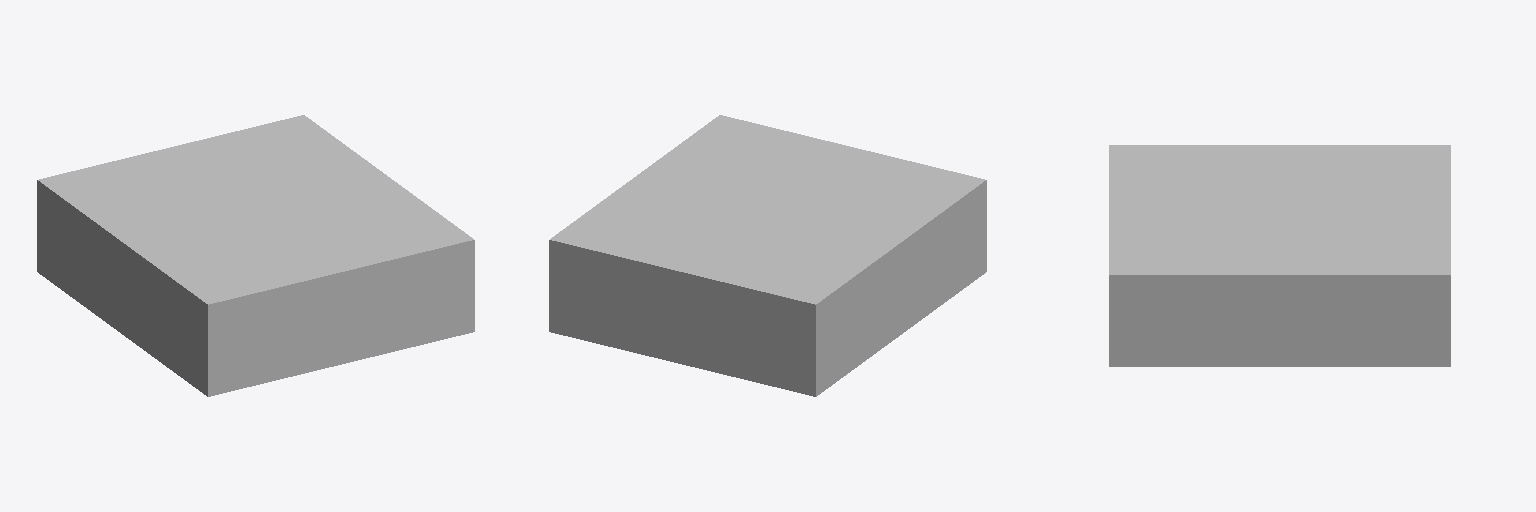
The model's file is PiecePhilo.obj.
3 renders of one model, left to right at view 1: azimuth 30°, elevation 25°; view 2: azimuth 150°, elevation 25°; view 3: azimuth 270°, elevation 25°, orthographic.
Bounding box in the file's own units: 8.82 × 2.92 × 9.78.